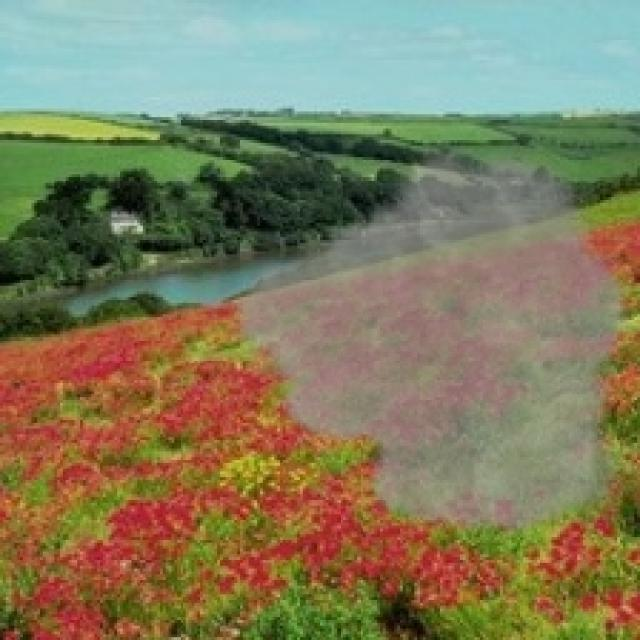smoke: (220, 137, 634, 543)
